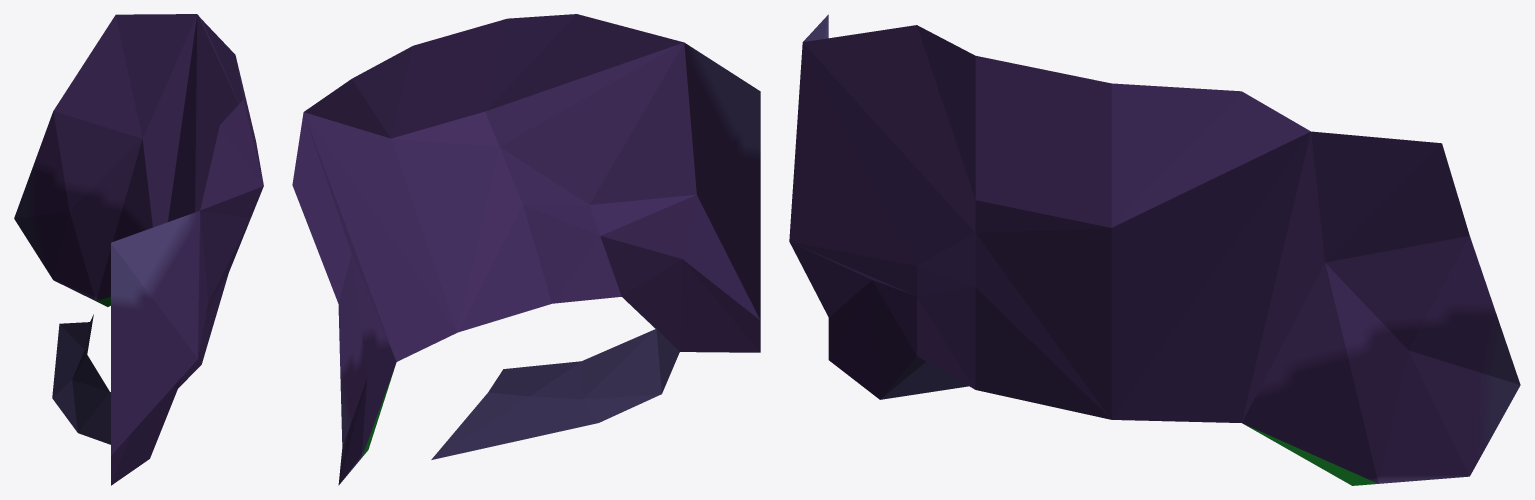
The picture shows the model from 3 angles, left to right: view 1: azimuth 30°, elevation 25°; view 2: azimuth 150°, elevation 25°; view 3: azimuth 270°, elevation 25°; orthographic projection. The views are drawn at different scales.
Visible parts, largest first — view 1: Mapa Base.007; view 2: Mapa Base.007; view 3: Mapa Base.007.
Part boxes in pixels (bbox=[...]): Mapa Base.007: bbox=[14, 14, 263, 485]; Mapa Base.007: bbox=[292, 14, 760, 485]; Mapa Base.007: bbox=[789, 14, 1520, 485].
Size of the model in its own units: 16436 by 28579 by 18645.
2 materials, 1 textured.
